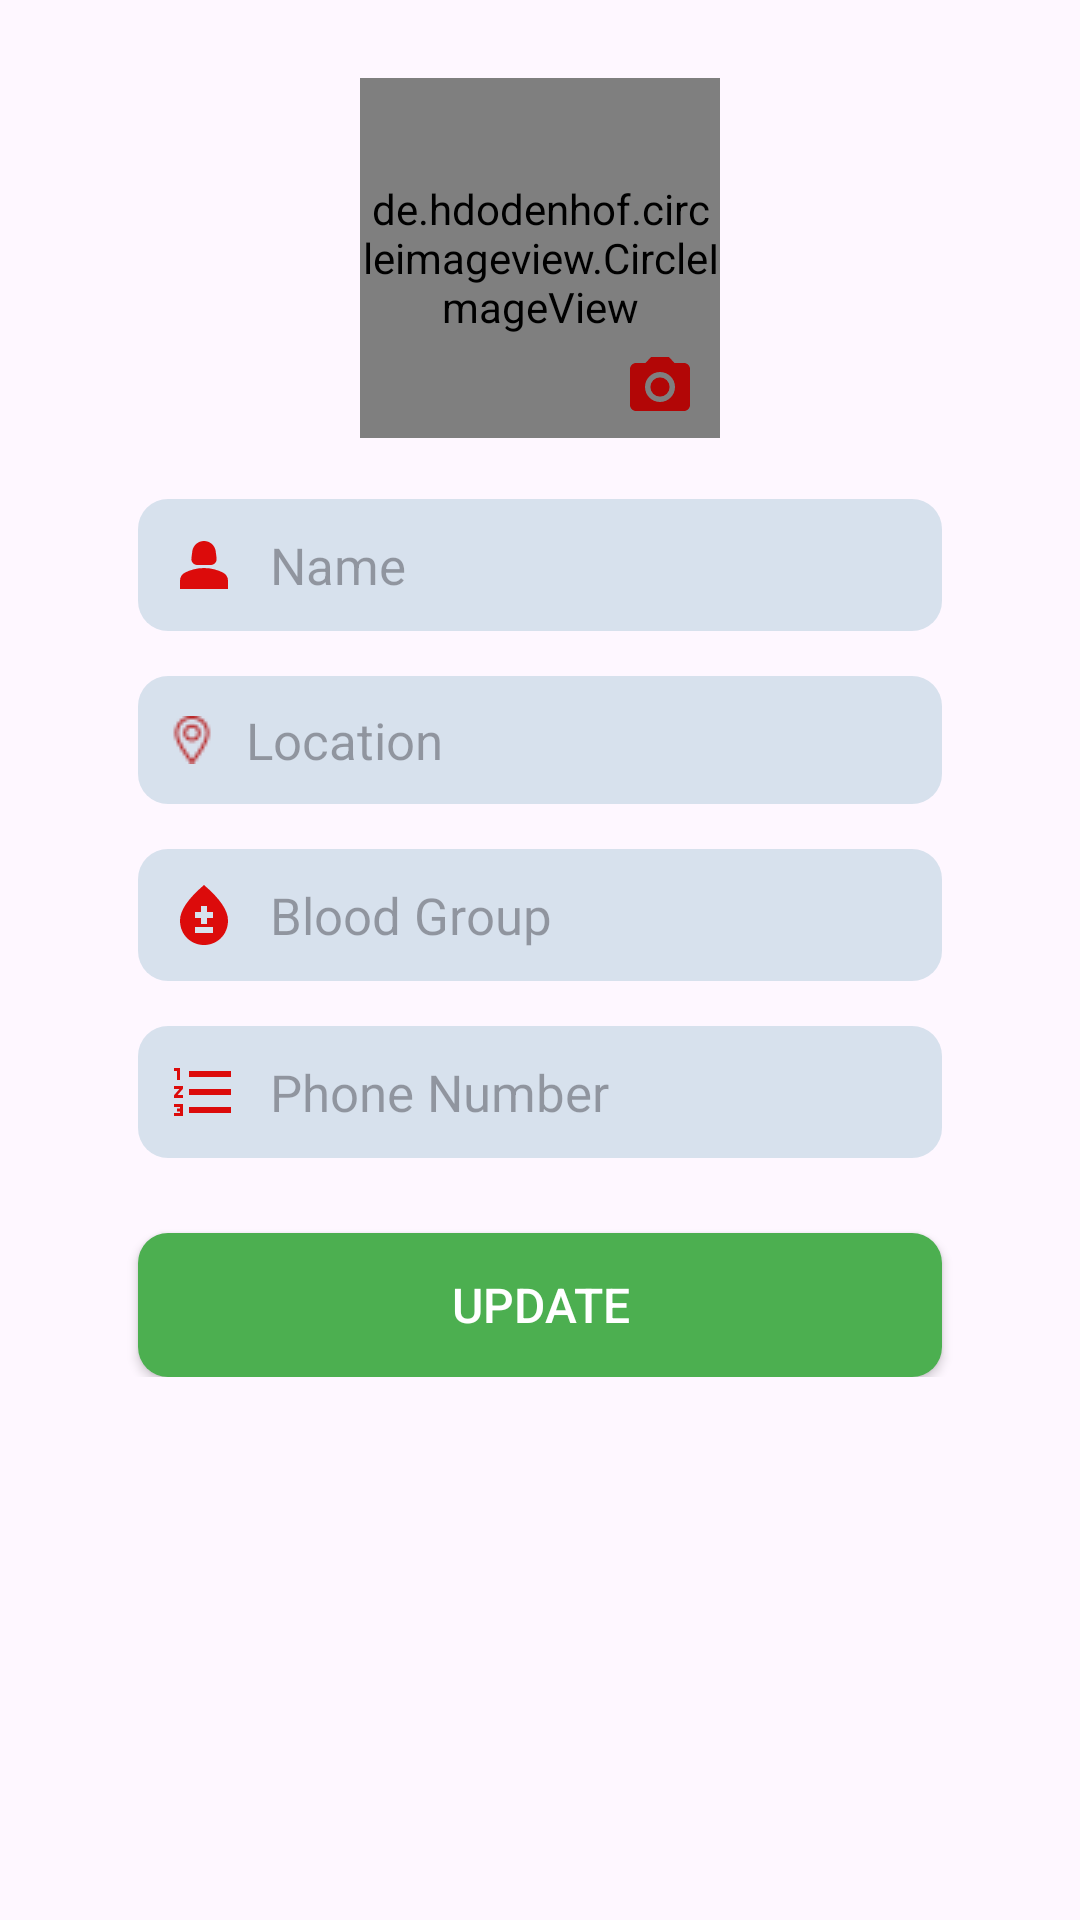

Point at icon controls on the screen. Image size 1080px×1920px, points as point (x, y).
photo camera: point (660, 384)
